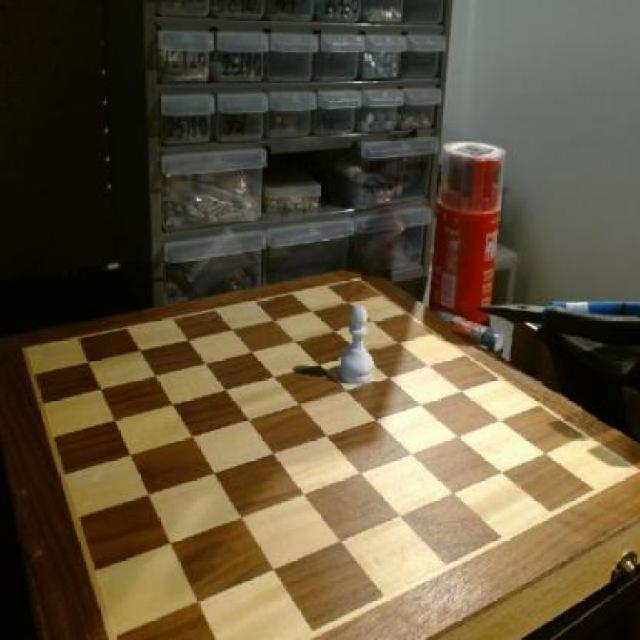white-knight: (340, 306, 377, 389)
